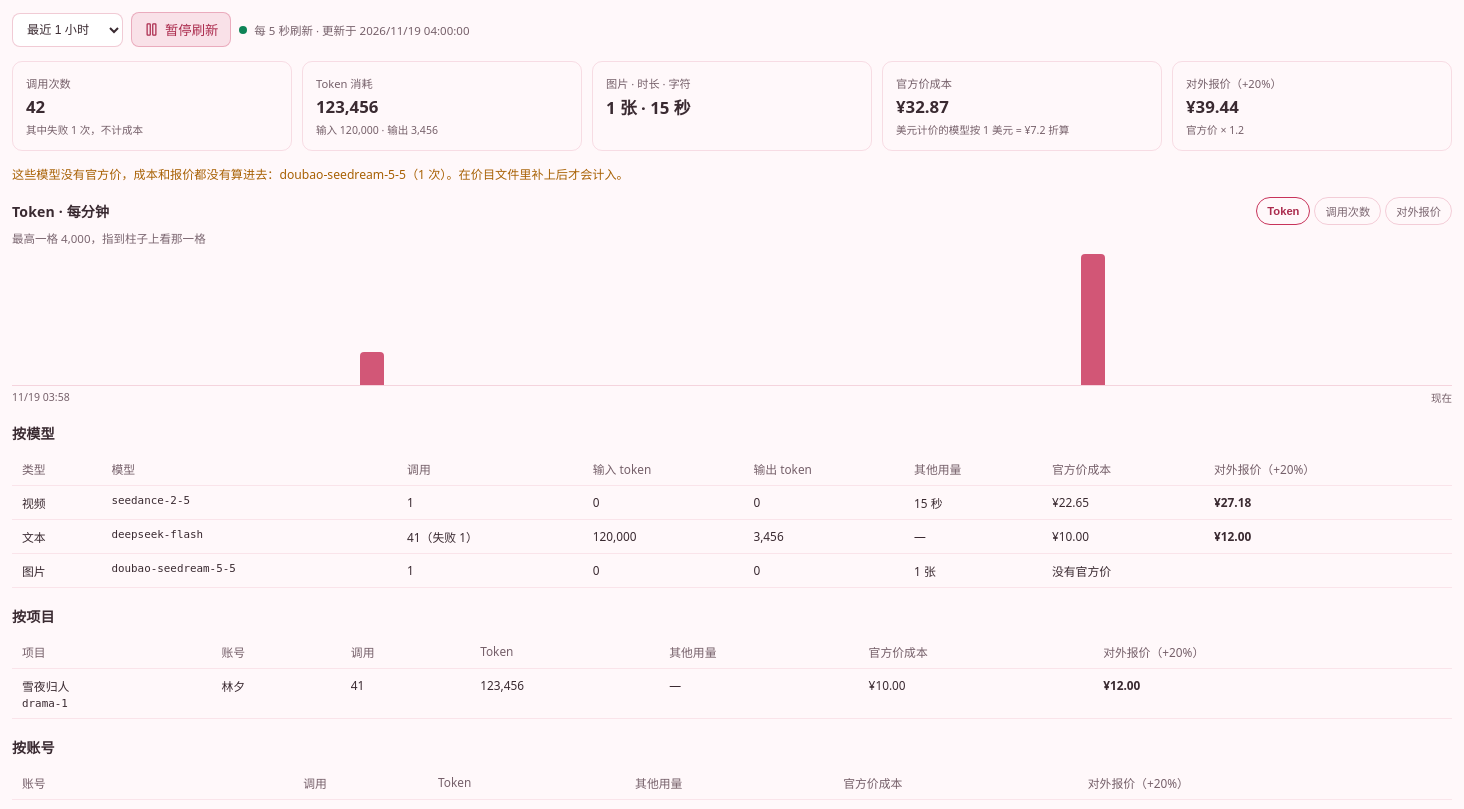
Test case: live usage and the outward quote › reads one bar of the chart, in the measure that was picked
Expected: the number of pictures is 2, [360,352,384,385]; [1080,254,1104,385]
Click the button "对外报价".
click(1419, 210)  # box [1385,196,1452,224]
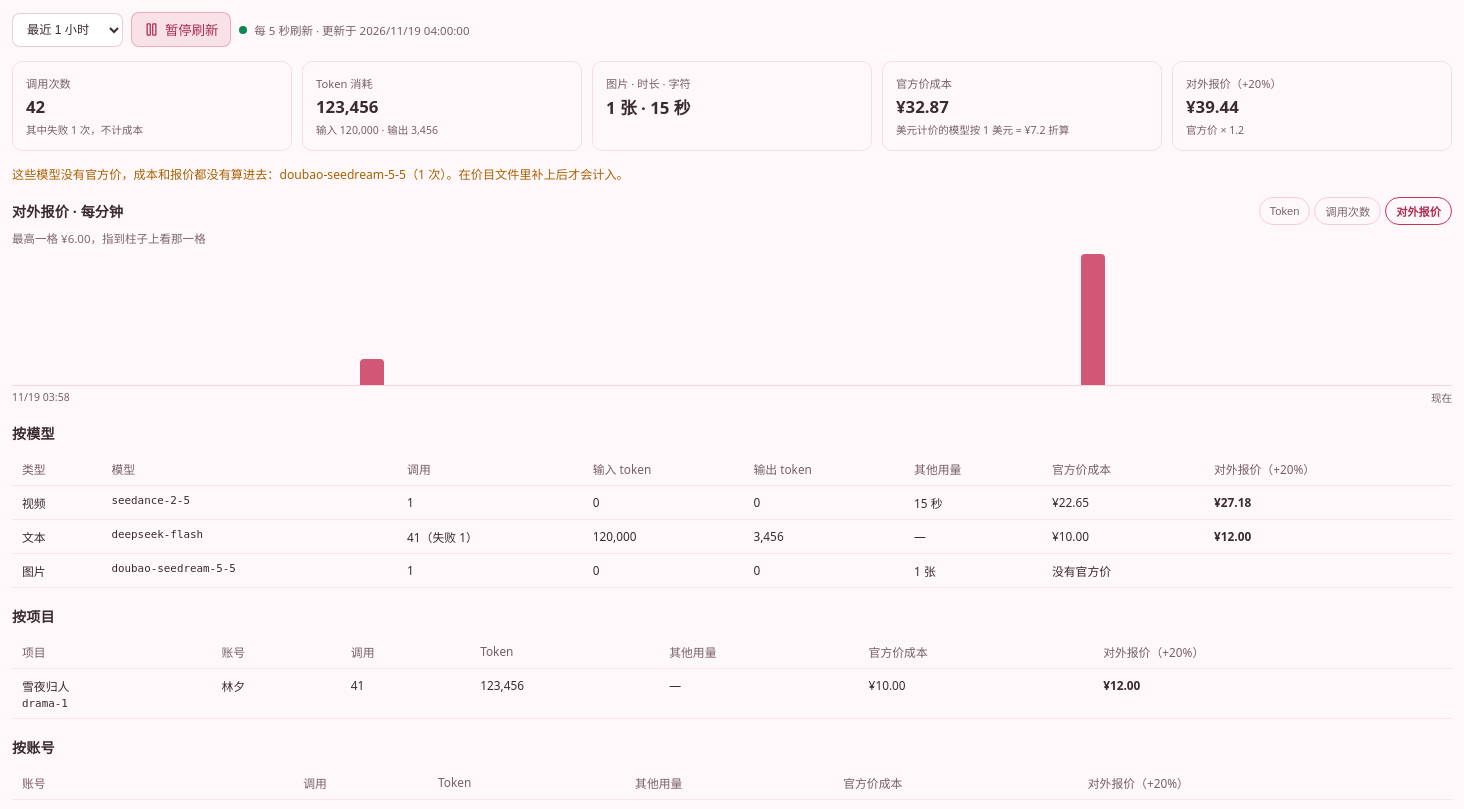
Hover over the picture named "11/19 03:58：¥1.20，2 次调用".
mouse_move(372, 372)  # box [360,359,384,385]
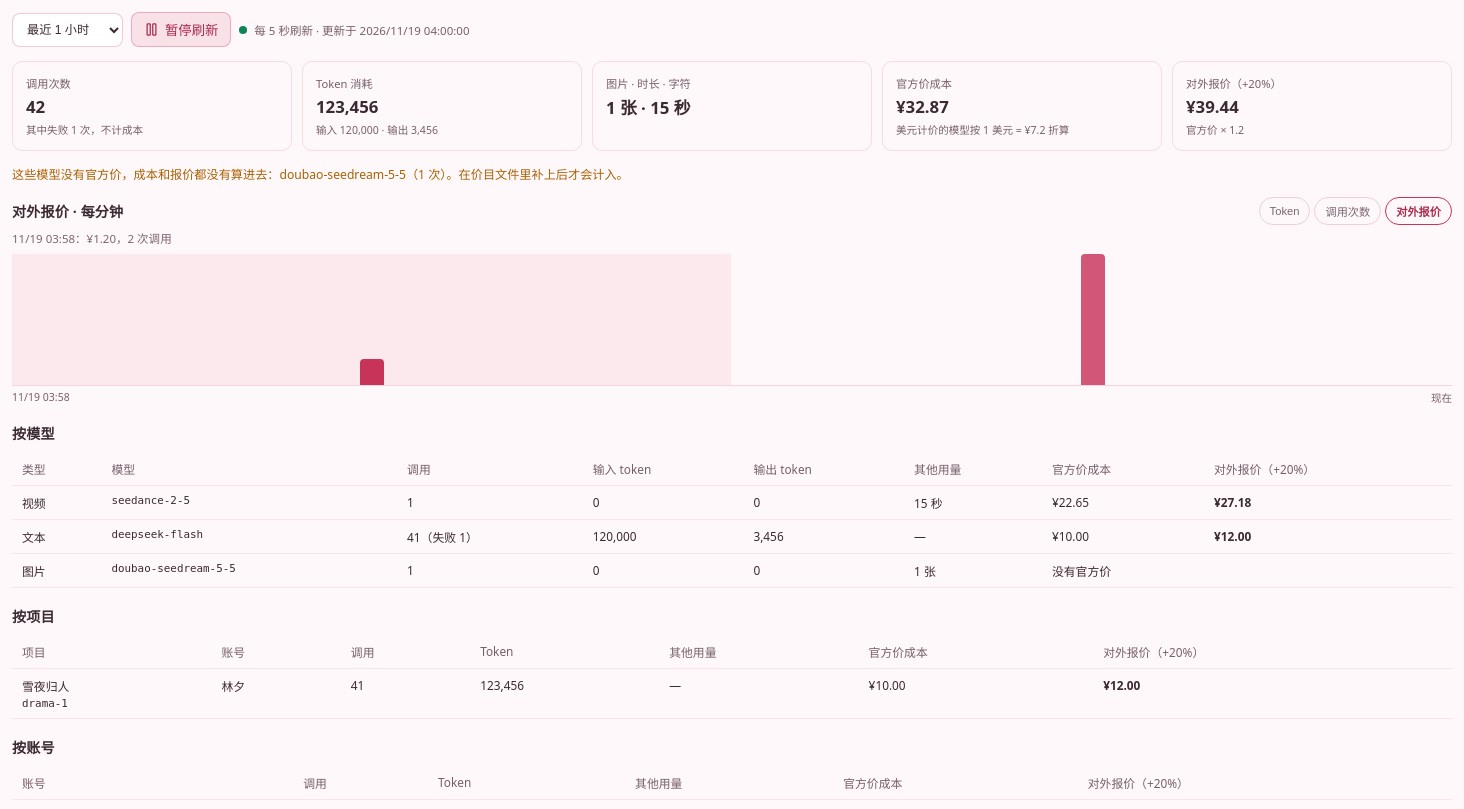
Expected: the text "11/19 03:58：¥1.20，2 次调用" is shown, [12,231,172,246]
